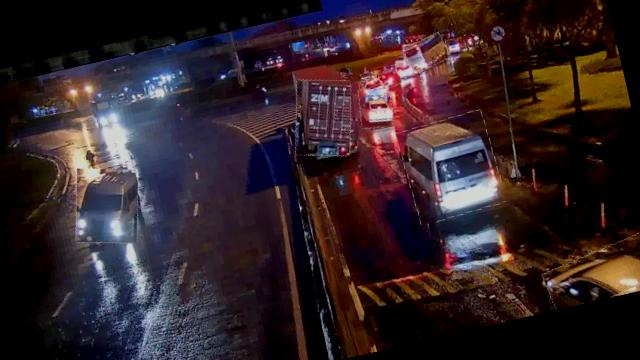Bus: (396, 110, 506, 224), (354, 84, 396, 130), (402, 33, 450, 73)
Car: (65, 160, 150, 252), (539, 235, 640, 311), (358, 75, 387, 101), (392, 58, 418, 80), (378, 68, 402, 90)
Truck: (285, 72, 363, 164)
